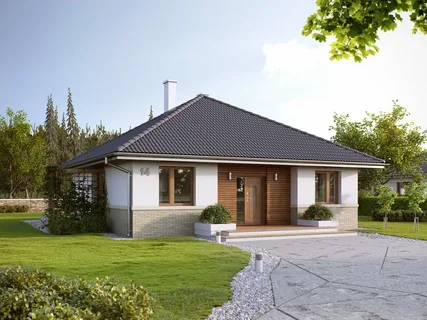private_hause: (71, 93, 368, 237)
